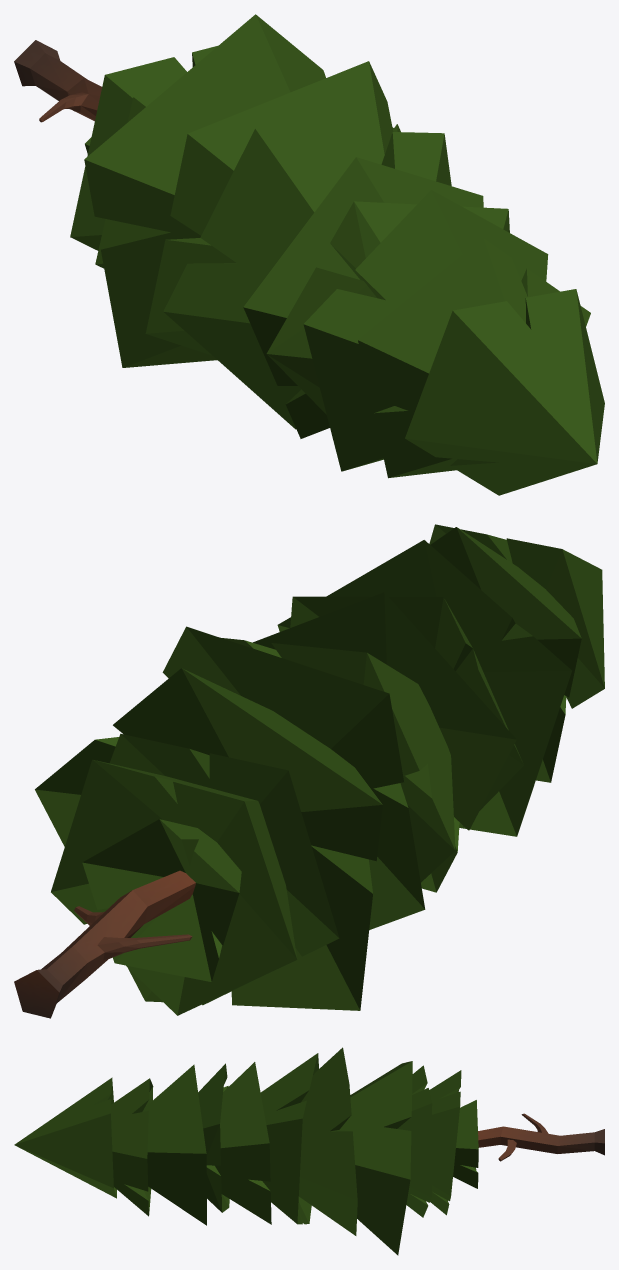
The model's file is tree3.fbx.
3 renders of one model, top to bottom at view 1: azimuth 30°, elevation 25°; view 2: azimuth 150°, elevation 25°; view 3: azimuth 270°, elevation 25°, orthographic. The views are drawn at different scales.
Visible parts, largest first — view 1: Pine_Variant_A_Dark_Mature_C.002; view 2: Pine_Variant_A_Dark_Mature_C.002; view 3: Pine_Variant_A_Dark_Mature_C.002.
Part boxes in pixels (left/top/right/bottom): Pine_Variant_A_Dark_Mature_C.002: left=14, top=14, right=604, bottom=495; Pine_Variant_A_Dark_Mature_C.002: left=14, top=524, right=604, bottom=1018; Pine_Variant_A_Dark_Mature_C.002: left=14, top=1047, right=604, bottom=1255.
Bounding box in the file's own units: 914 × 916 × 2691.
